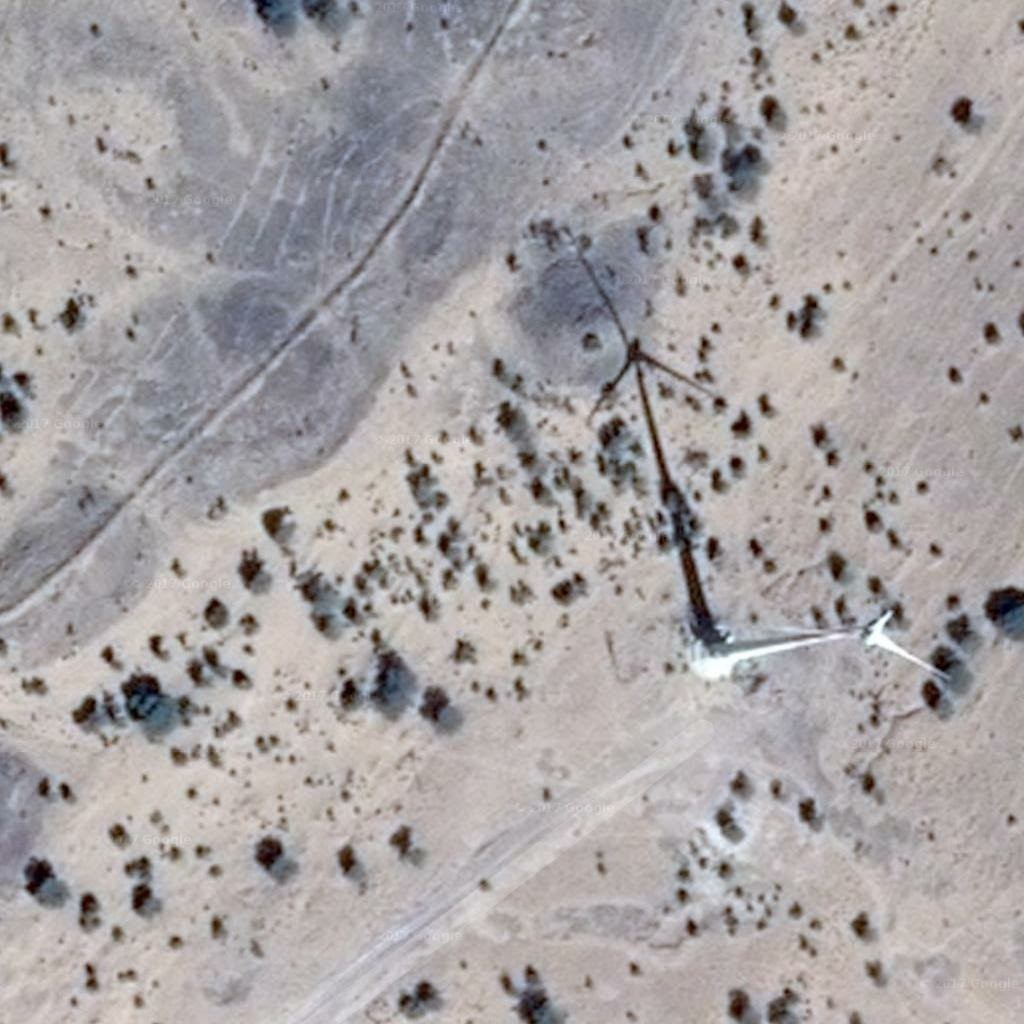Windmill: (574, 253, 741, 626)
